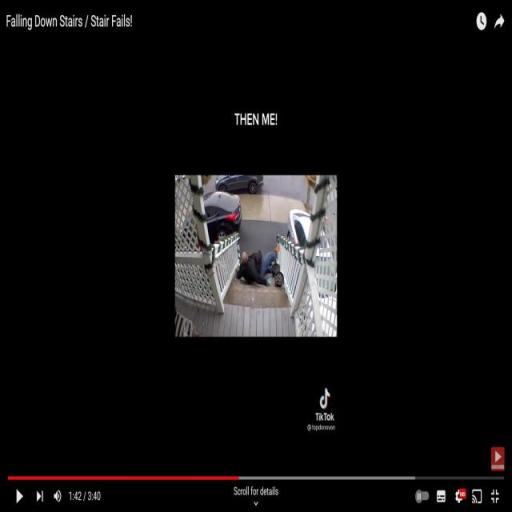Fall: (236, 244, 281, 288)
